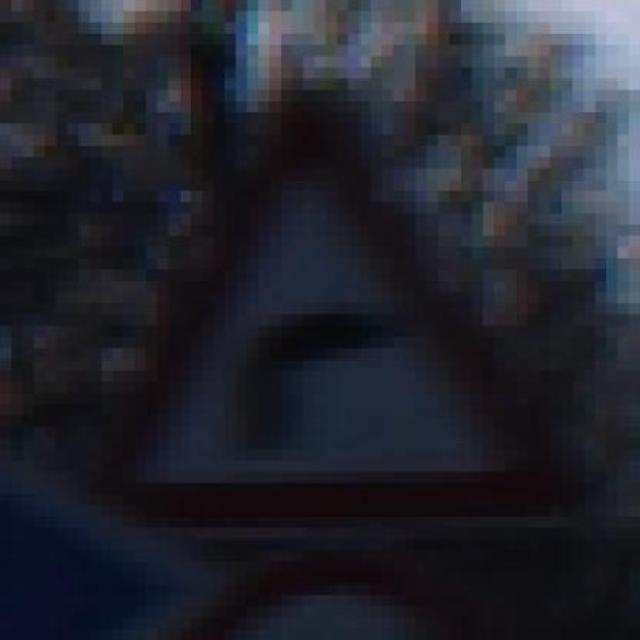Dangerous Rright Curve Ahead: (56, 78, 562, 517)
